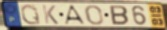6: (131, 5, 148, 26)
A: (64, 5, 88, 26)
B: (109, 4, 131, 26)
K: (41, 4, 60, 25)
O: (84, 5, 105, 26)
Q: (20, 3, 42, 26)
